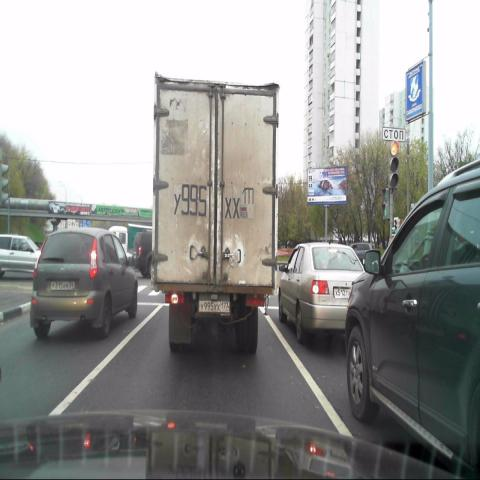6_16: (382, 126, 406, 143)
